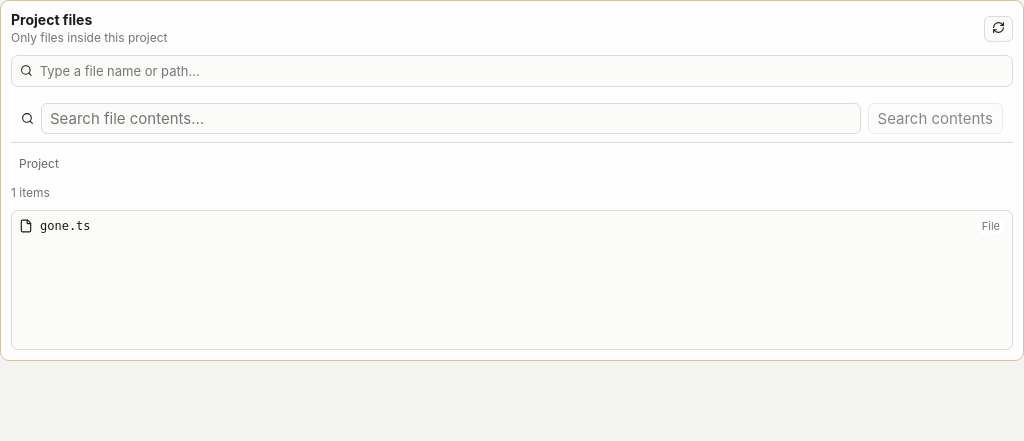
ProjectFileBrowser › reports a file that disappears between tree listing and inspection as missing
Click the button with aria-label "Inspect file gone.ts" at {"x": 65, "y": 226}, box [12,211,1012,242]
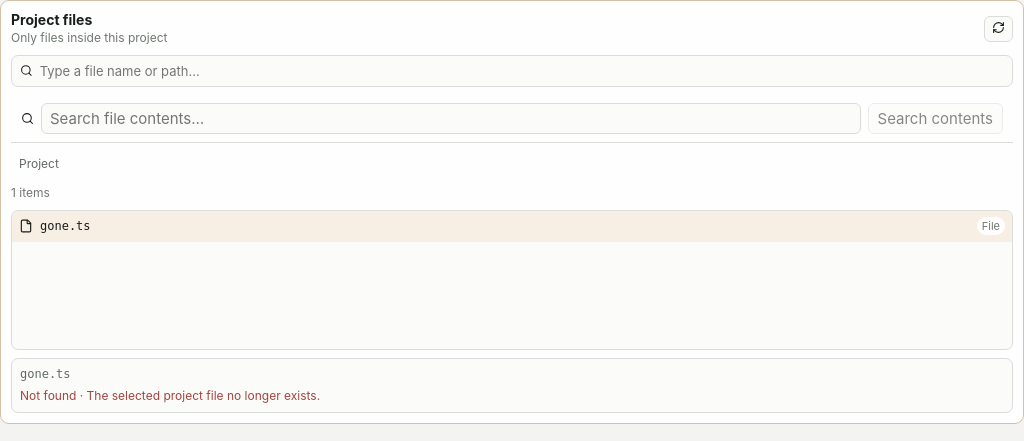
Check: the message "Not found · The selected project file no longer exists." is shown, box [20,388,320,403]
